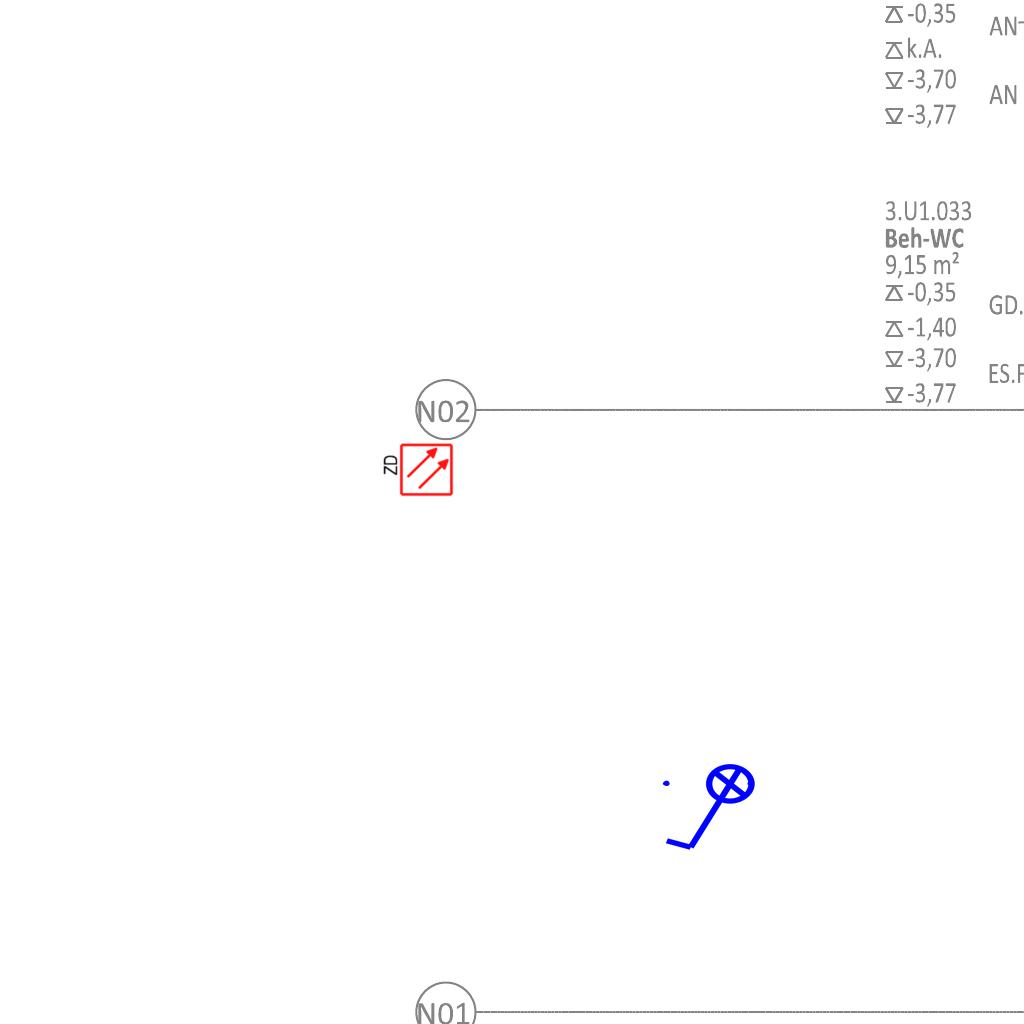Ausschalter_beleuchtet: (657, 762, 769, 858)
ZD_Melder_in_Zwischendecke_mit_Revisionsoeffnung_mind_40_x_40_cm: (380, 442, 454, 499)
